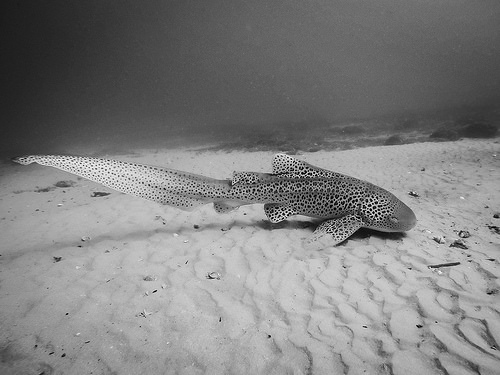shark: (12, 122, 437, 264)
